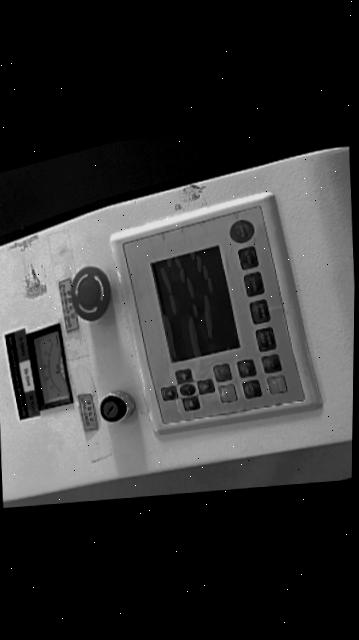Amp_Meter: (3, 324, 71, 419)
Display: (148, 244, 237, 363)
Down_button: (195, 379, 213, 394)
Emergency_Stop: (69, 266, 109, 321)
Enter_button: (217, 385, 235, 403)
Esc_button: (211, 364, 230, 382)
File_button: (260, 355, 280, 373)
Frame_button: (240, 380, 260, 399)
Left_button: (173, 369, 191, 384)
Max-Power_button: (254, 328, 274, 352)
Min-Power_button: (247, 300, 268, 324)
Origin_button: (235, 360, 254, 378)
Power_switch: (98, 392, 132, 423)
Pulse_button: (236, 246, 256, 269)
Reset_button: (228, 220, 252, 242)
Right_button: (180, 397, 198, 411)
Speed_button: (242, 272, 262, 297)
Start-Pause_button: (265, 376, 285, 394)
Up_button: (159, 387, 176, 401)
Z_U_button: (177, 384, 193, 396)
